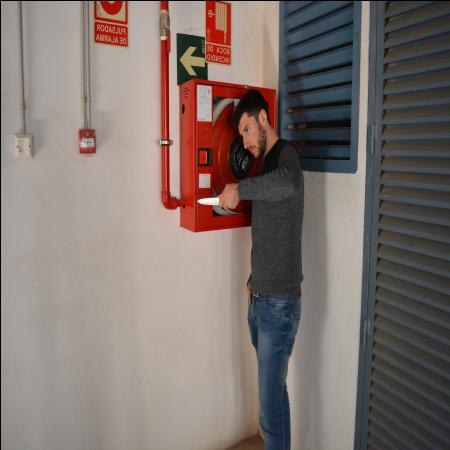long weapon: (195, 191, 225, 207)
